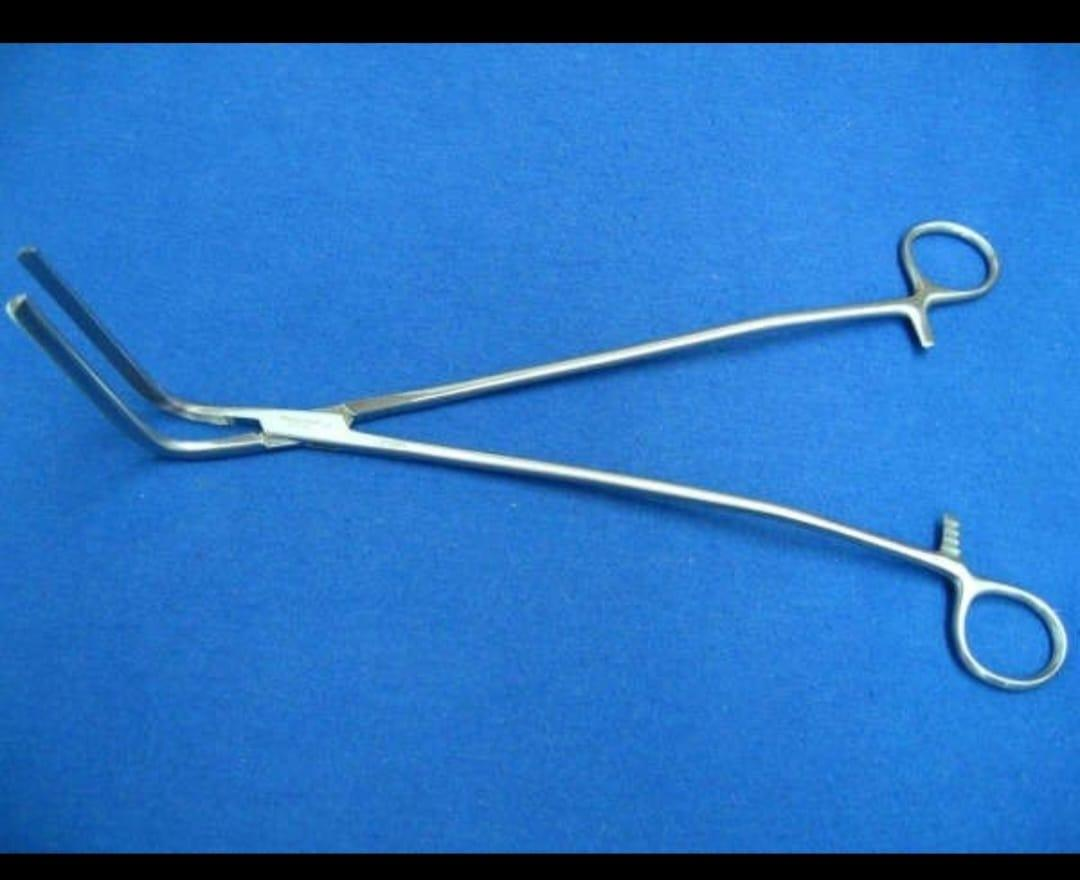Surgical blade: (1, 219, 1071, 693)
